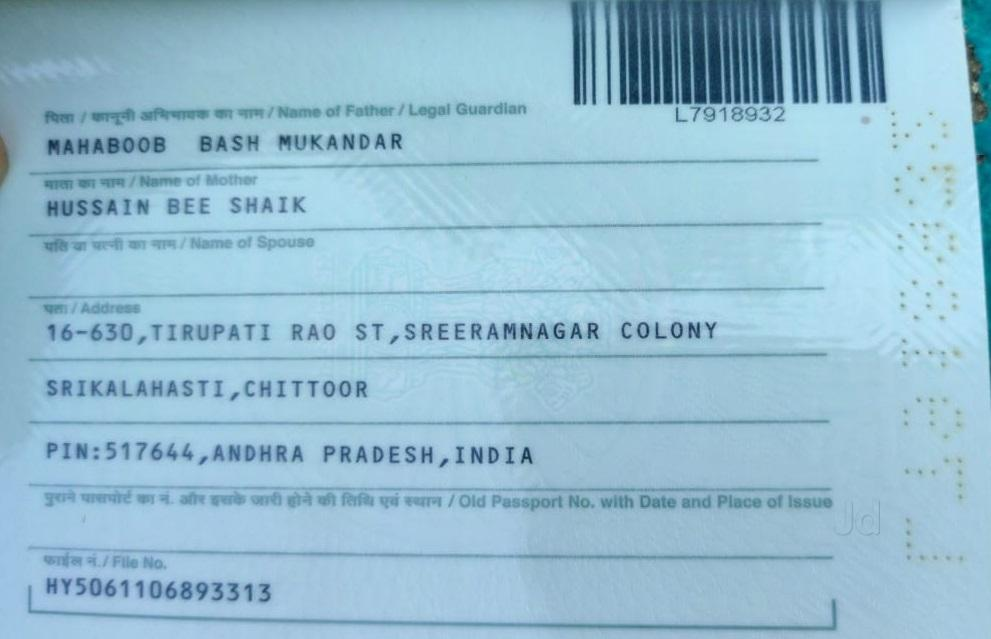File_no: (37, 570, 290, 614)
address: (37, 316, 744, 479)
father_name: (30, 123, 419, 167)
mother_name: (33, 189, 323, 225)
passport_no: (656, 93, 809, 136)
